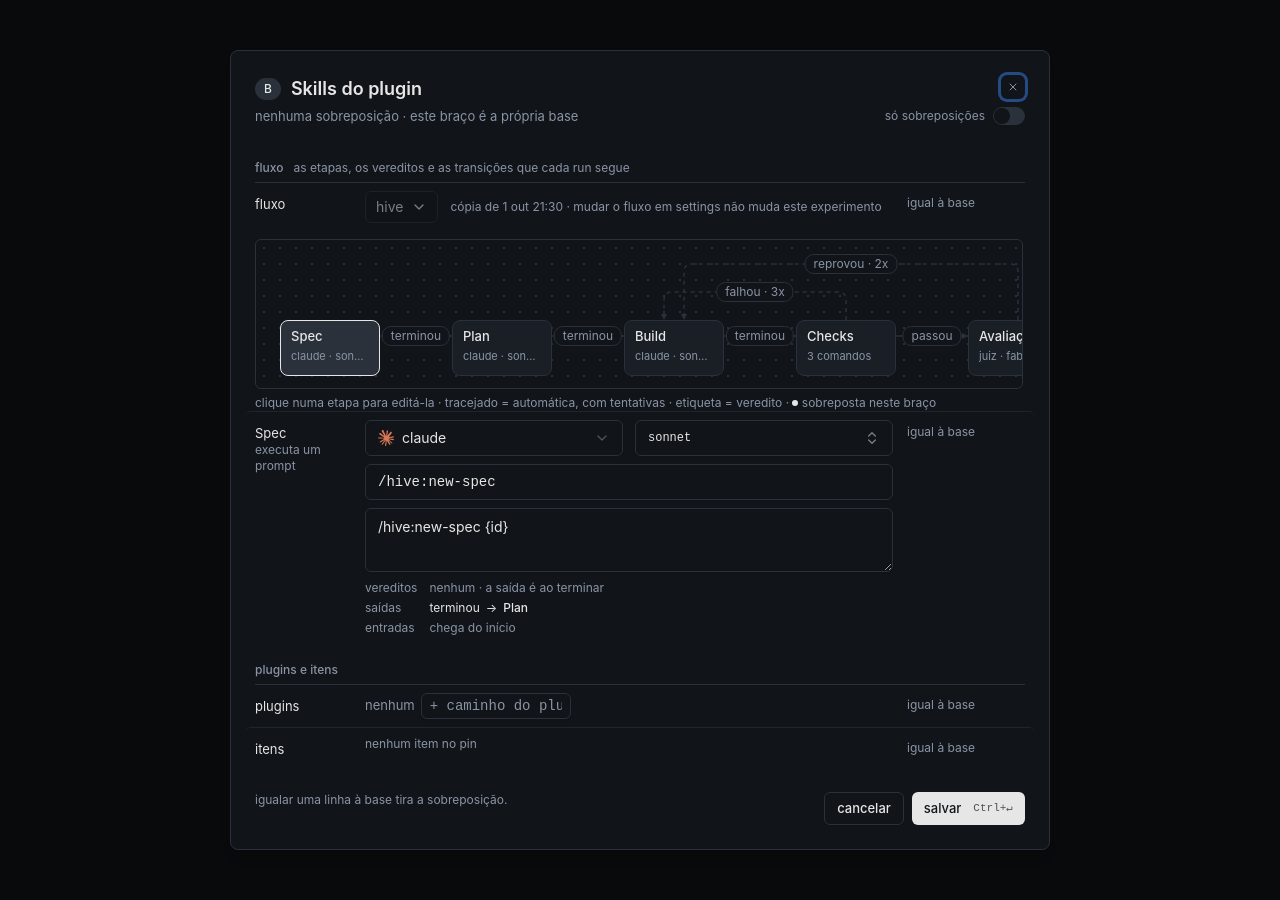
só sobreposições on an arm with no override reads nenhuma sobreposição (#536)
The image size is (1280, 900).
Click the switch named "só sobreposições". click: (1009, 116)
box: [993,107,1025,126]
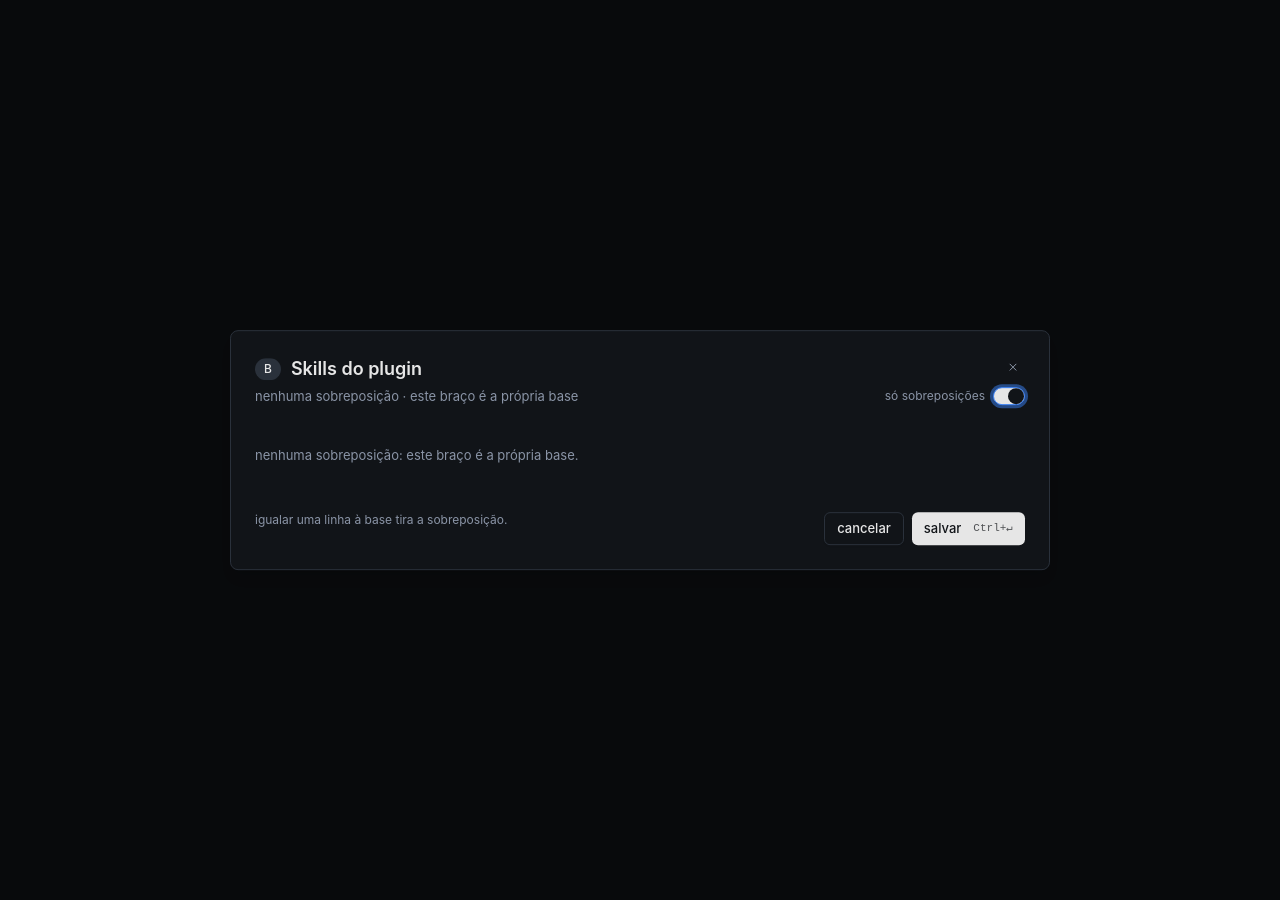
Check: the text "nenhuma sobreposição: este braço é a própria base." is shown, box [255,447,578,463]
